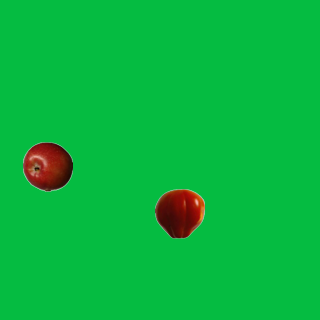Apple Braeburn: (22, 141, 72, 191)
Tomato 1: (154, 188, 204, 238)
